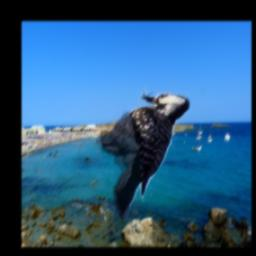Woodpecker: (96, 87, 190, 222)
